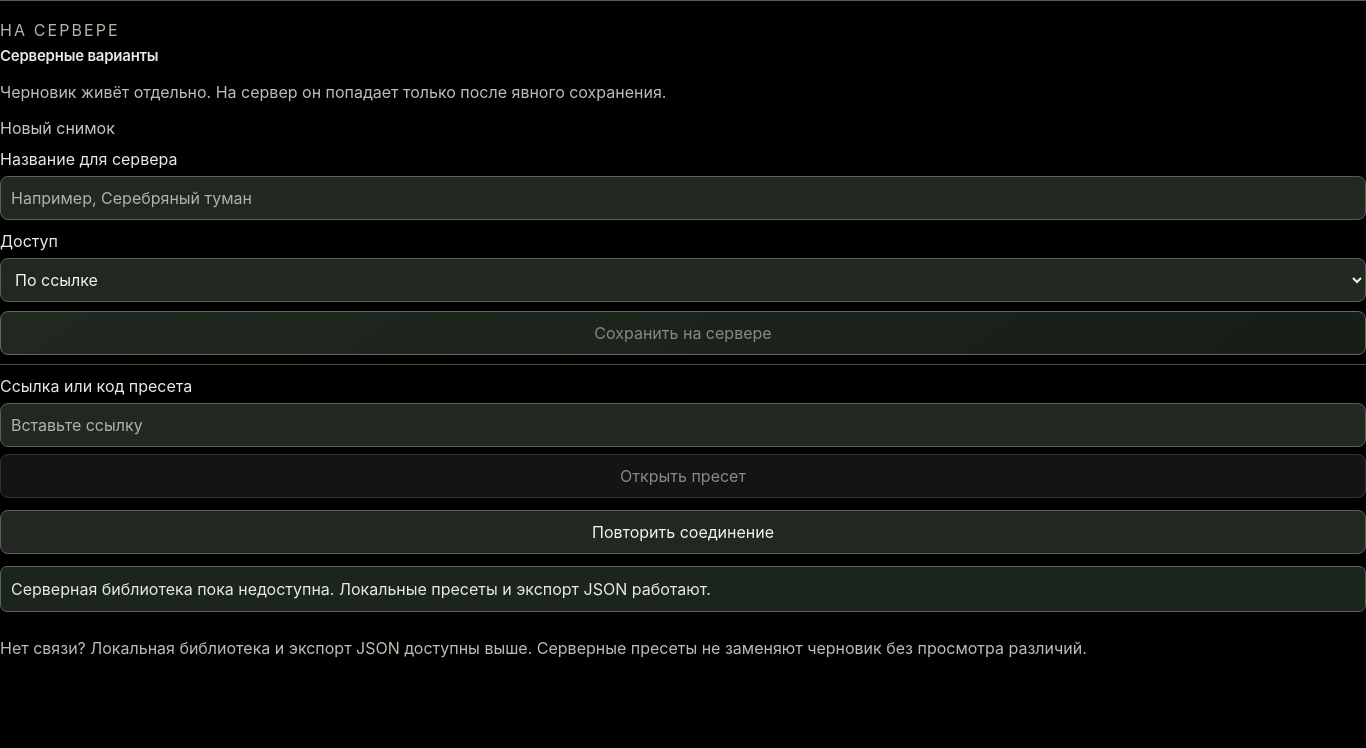
Test: remote preset library › restores server actions after a successful reconnect
Click the button "Повторить соединение".
click(683, 532)  # box top-left (0, 510), bottom-right (1365, 554)
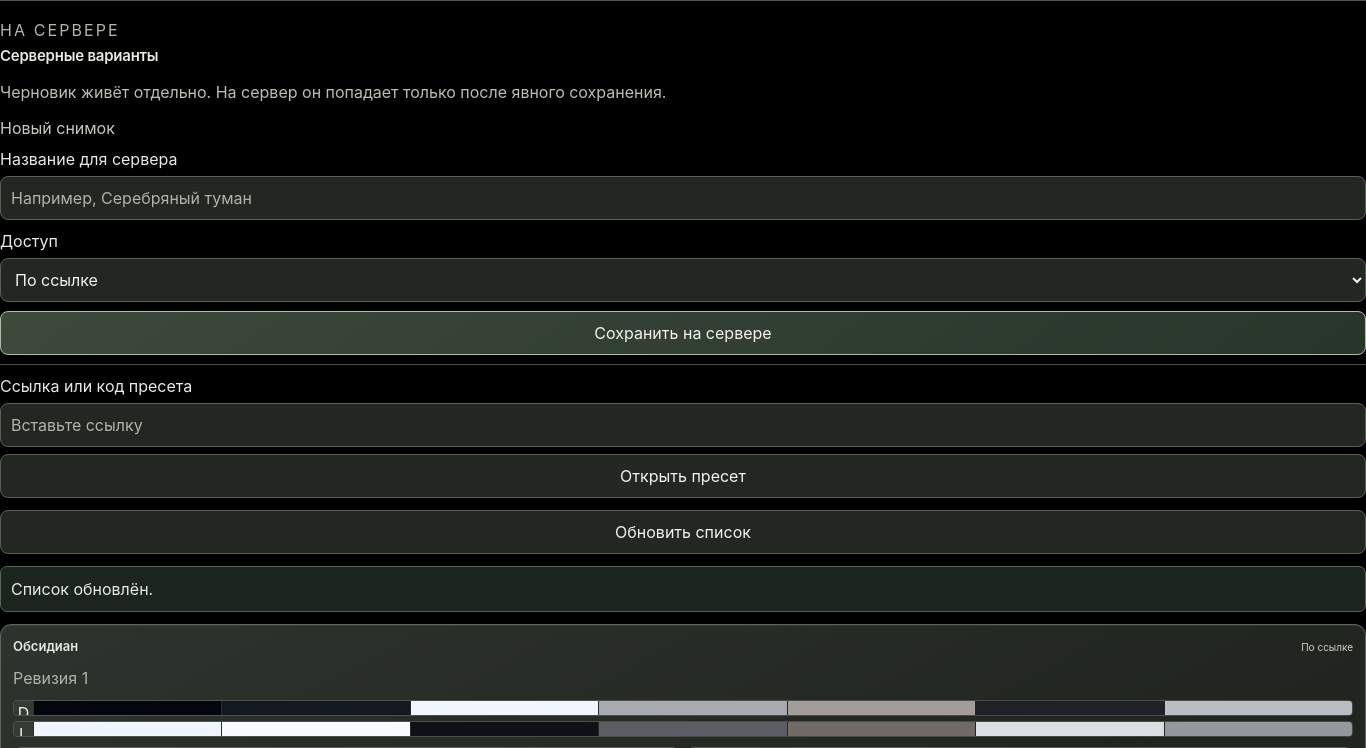
expect the button "Сохранить на сервере" is enabled: met, box top-left (0, 310), bottom-right (1365, 354)
expect the text "Серверная библиотека пока недоступна" is gone: met
